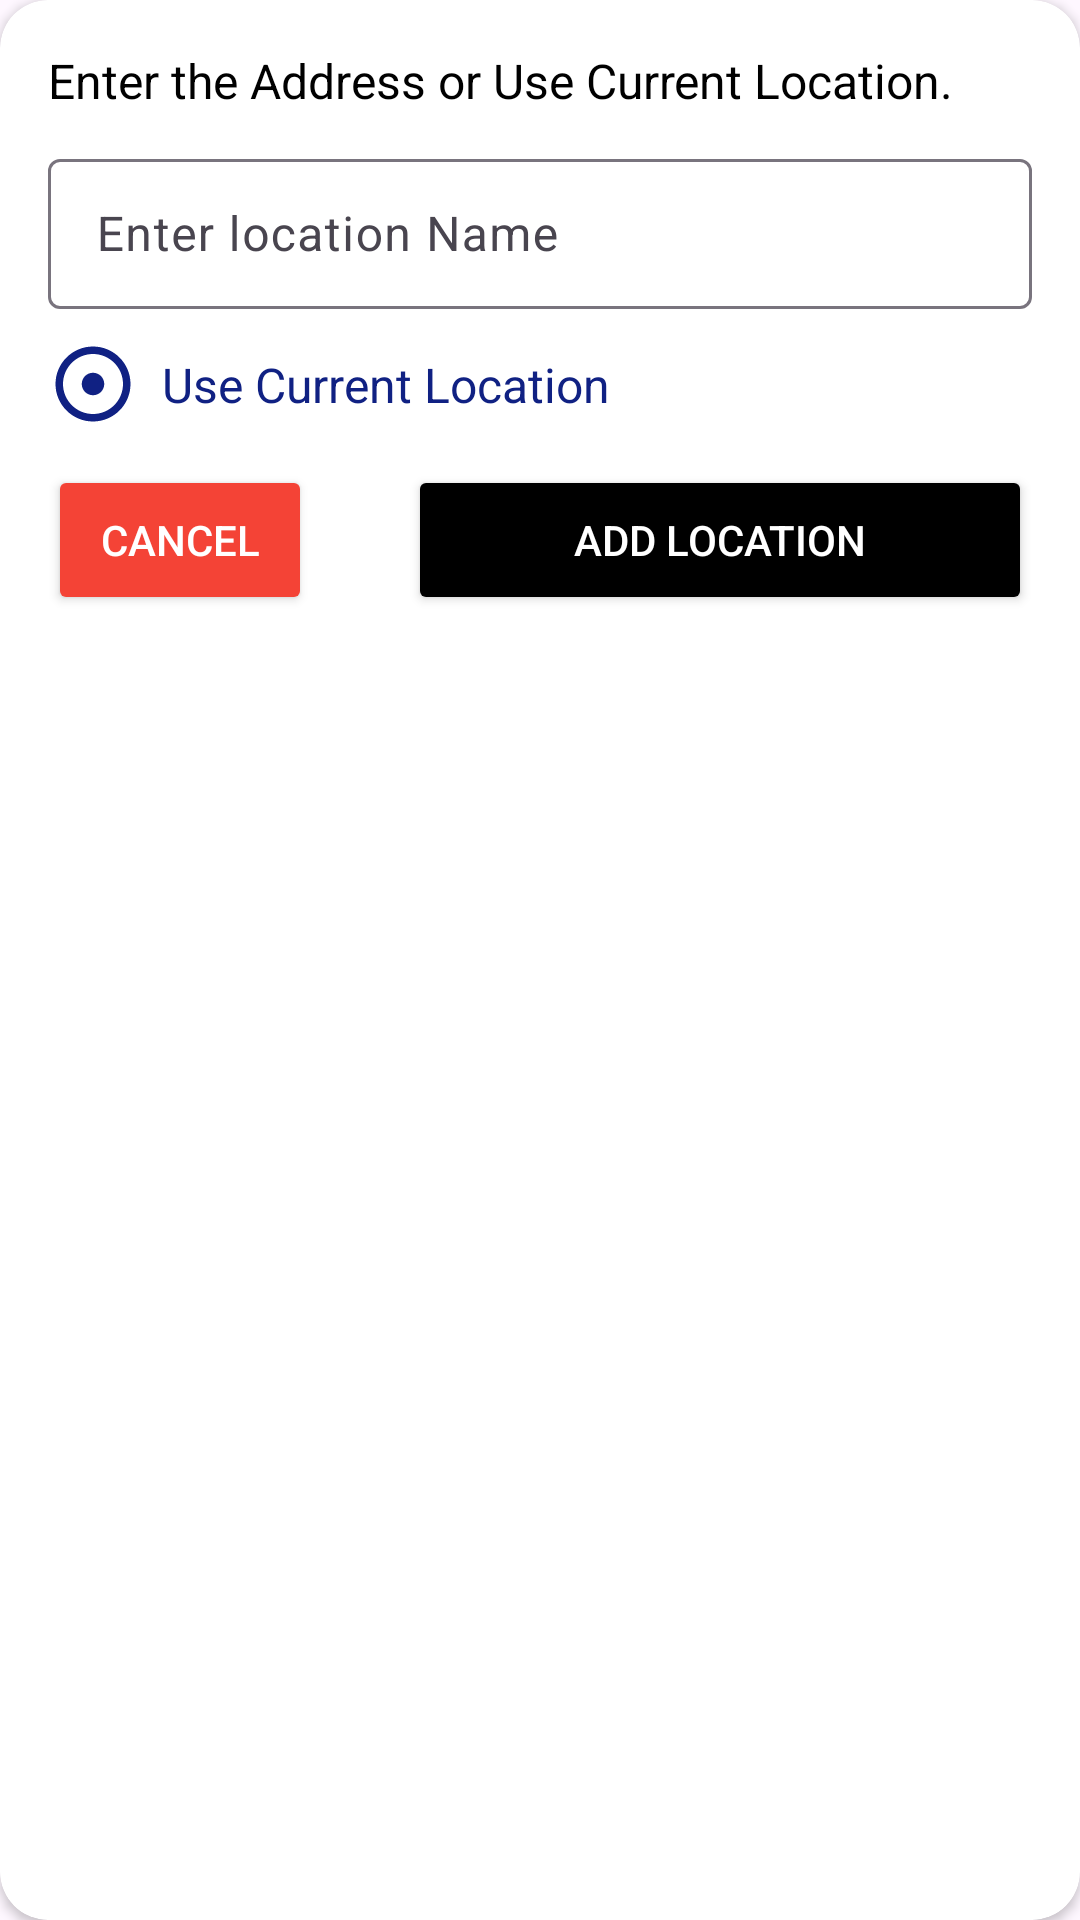

Named icons in this screenshot (1080x1920) and their bounding boxes, (x1, y1, x2, y2):
adjust: (55, 346, 131, 422)
